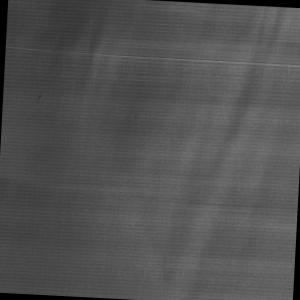Wrinkle: (158, 2, 300, 300), (57, 1, 142, 140)
